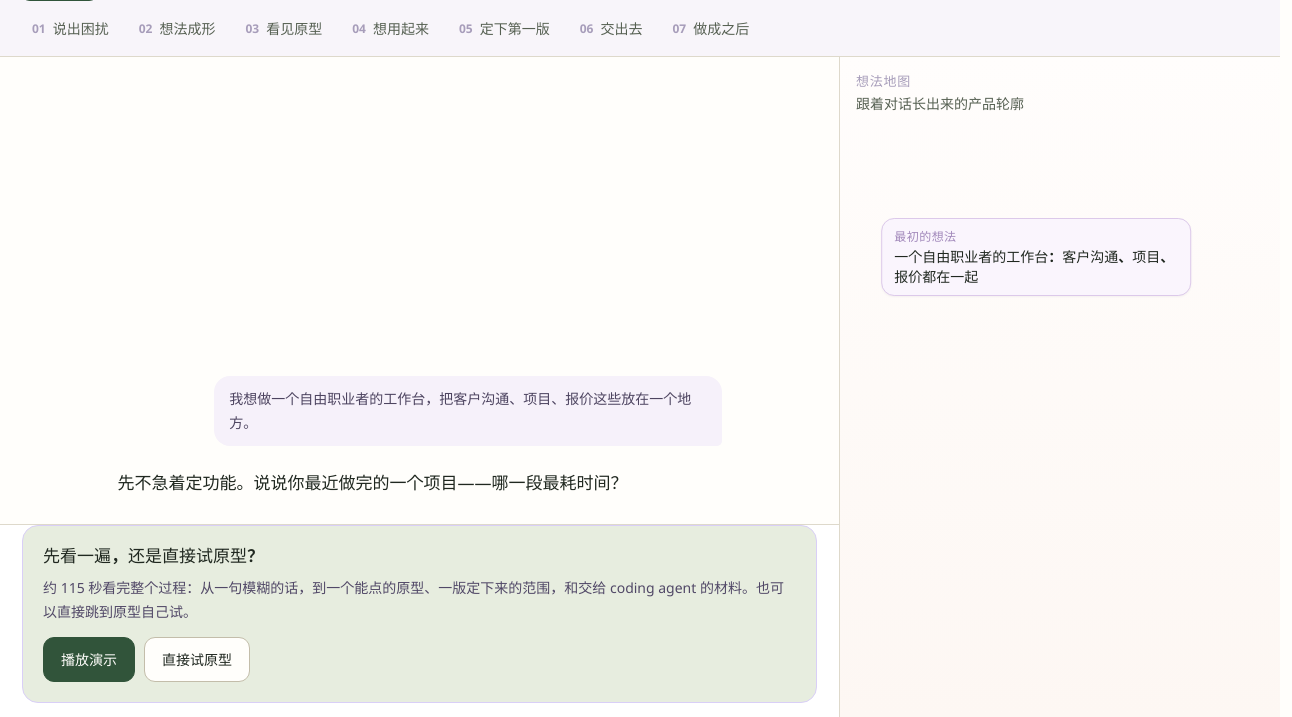
Test: watching › jumps to a chapter with everything before it, and without the old line finishing itself
(page scrolled)
Click the button "播放演示" at (89, 660), box [43,637,135,682]
Wait 720000 ms
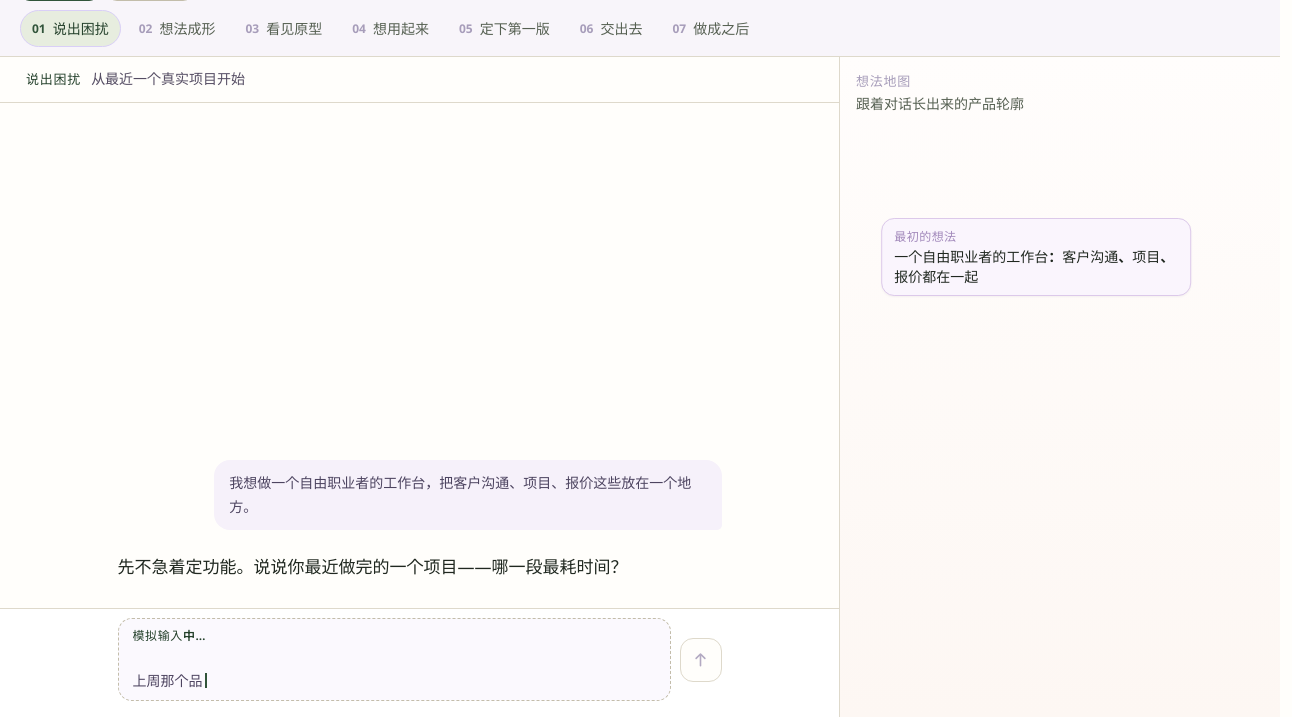
Click the button "03 看见原型" at (284, 28), box [234,10,334,47]
Wait 240000 ms
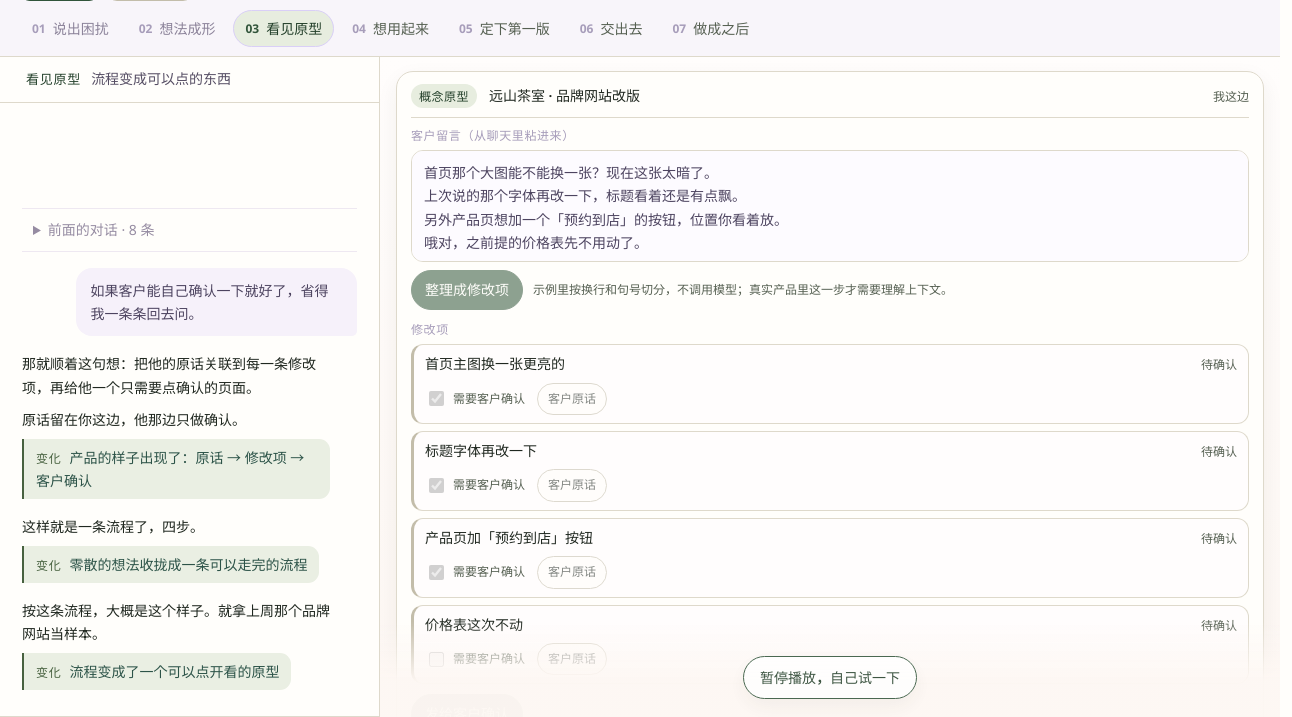
Check: the text "上周那个品" is not shown
Check: the element showing "看见原型 流程变成可以点的东西" is shown, box [0,57,379,103]
Check: the text "如果客户能自己确认一下就好了，省得我一条条回去问。" is shown, box [76,268,357,336]
